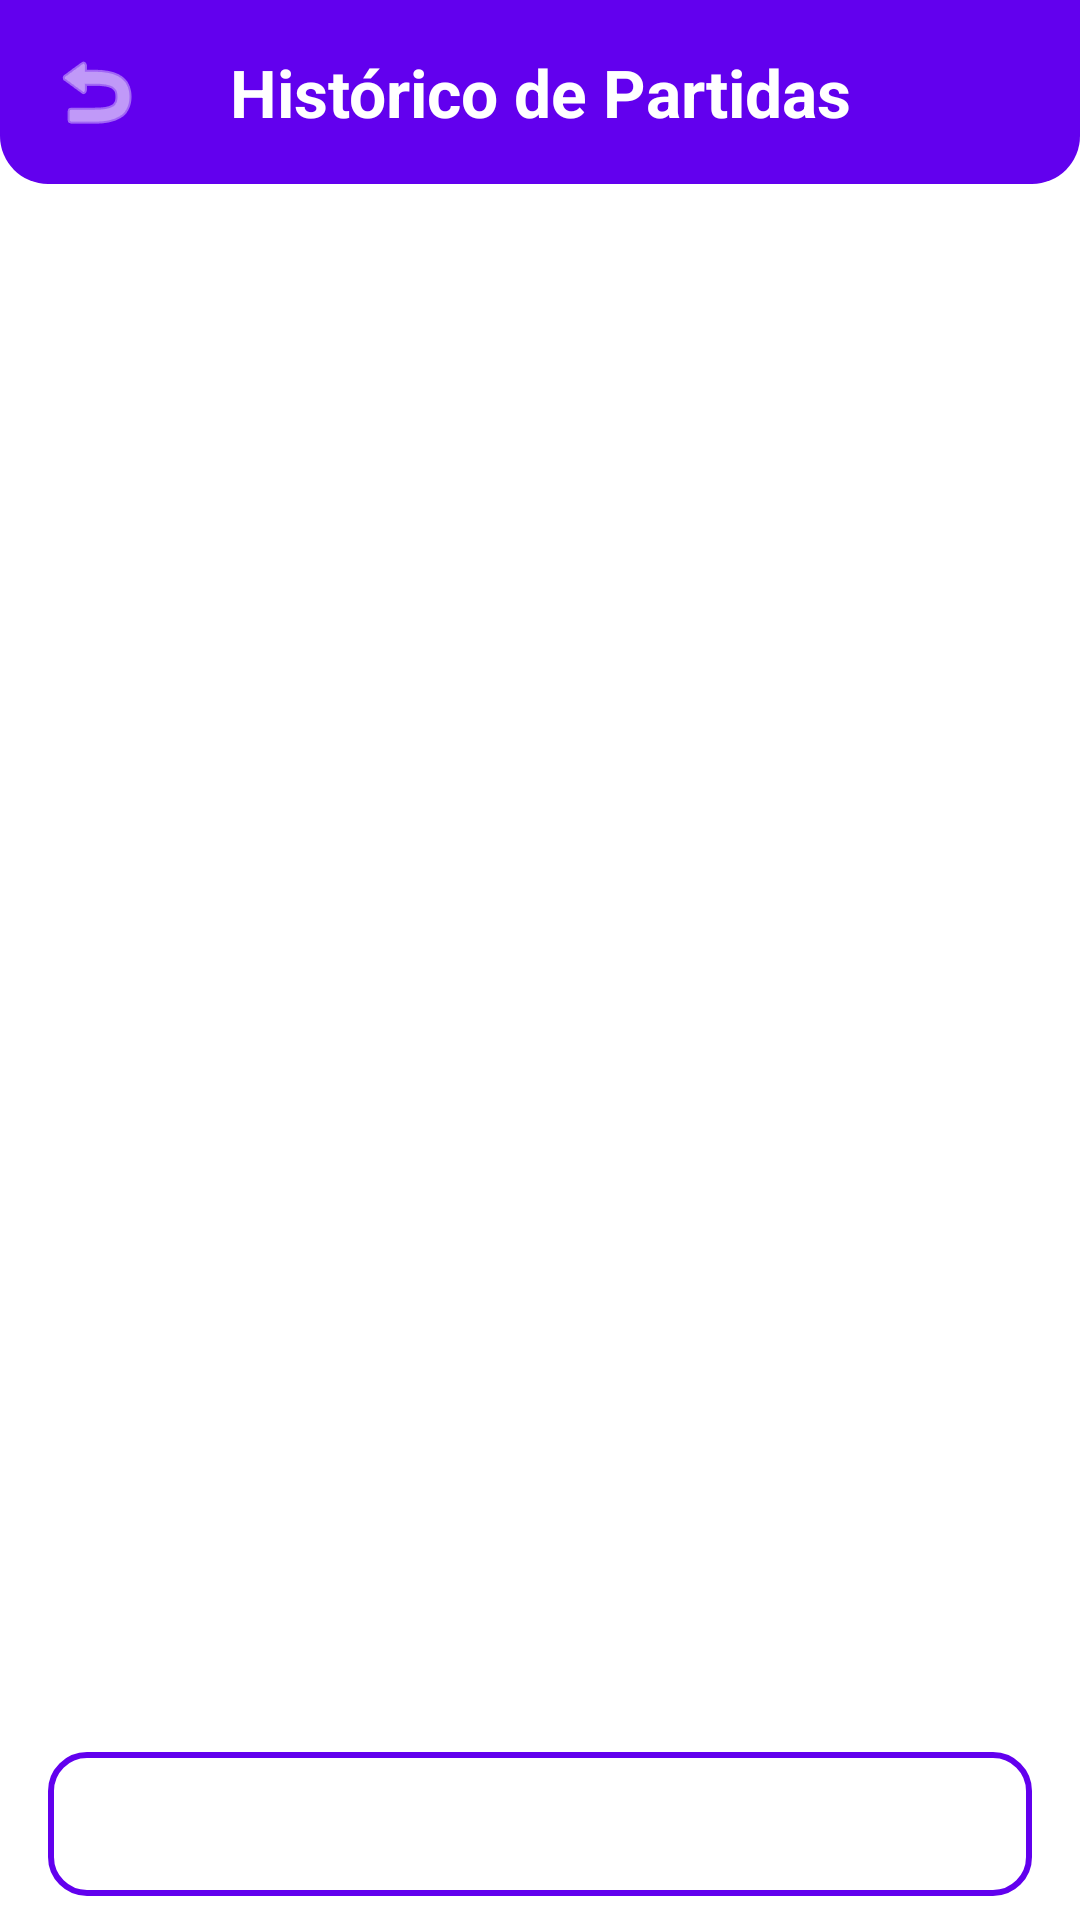

Screen size 1080 x 1920. Icon name, then its center in pixels as point (x, y):
Voltar: point (97, 92)
